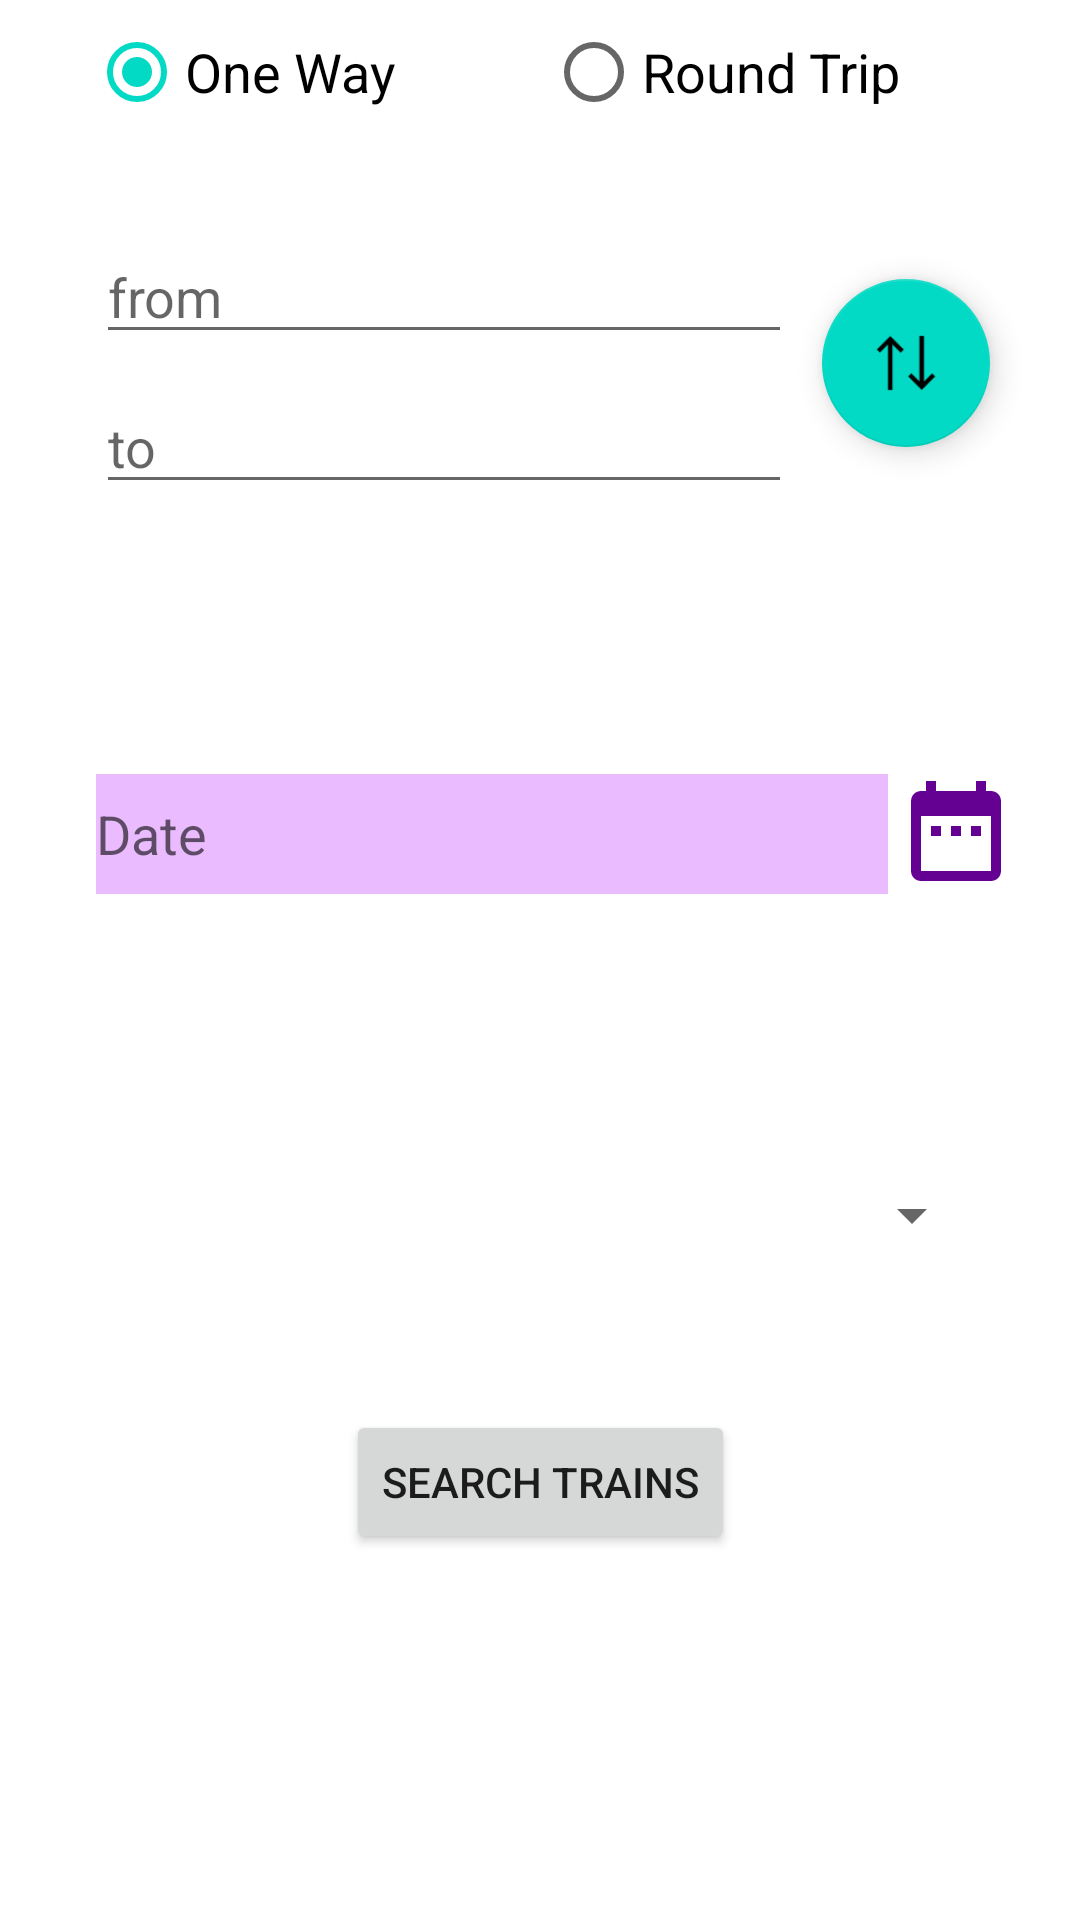

Screen size 1080 × 1920. Icon name, then its box in pixels as rect(x1, y1, x2, y2):
arrows: rect(822, 279, 990, 447)
